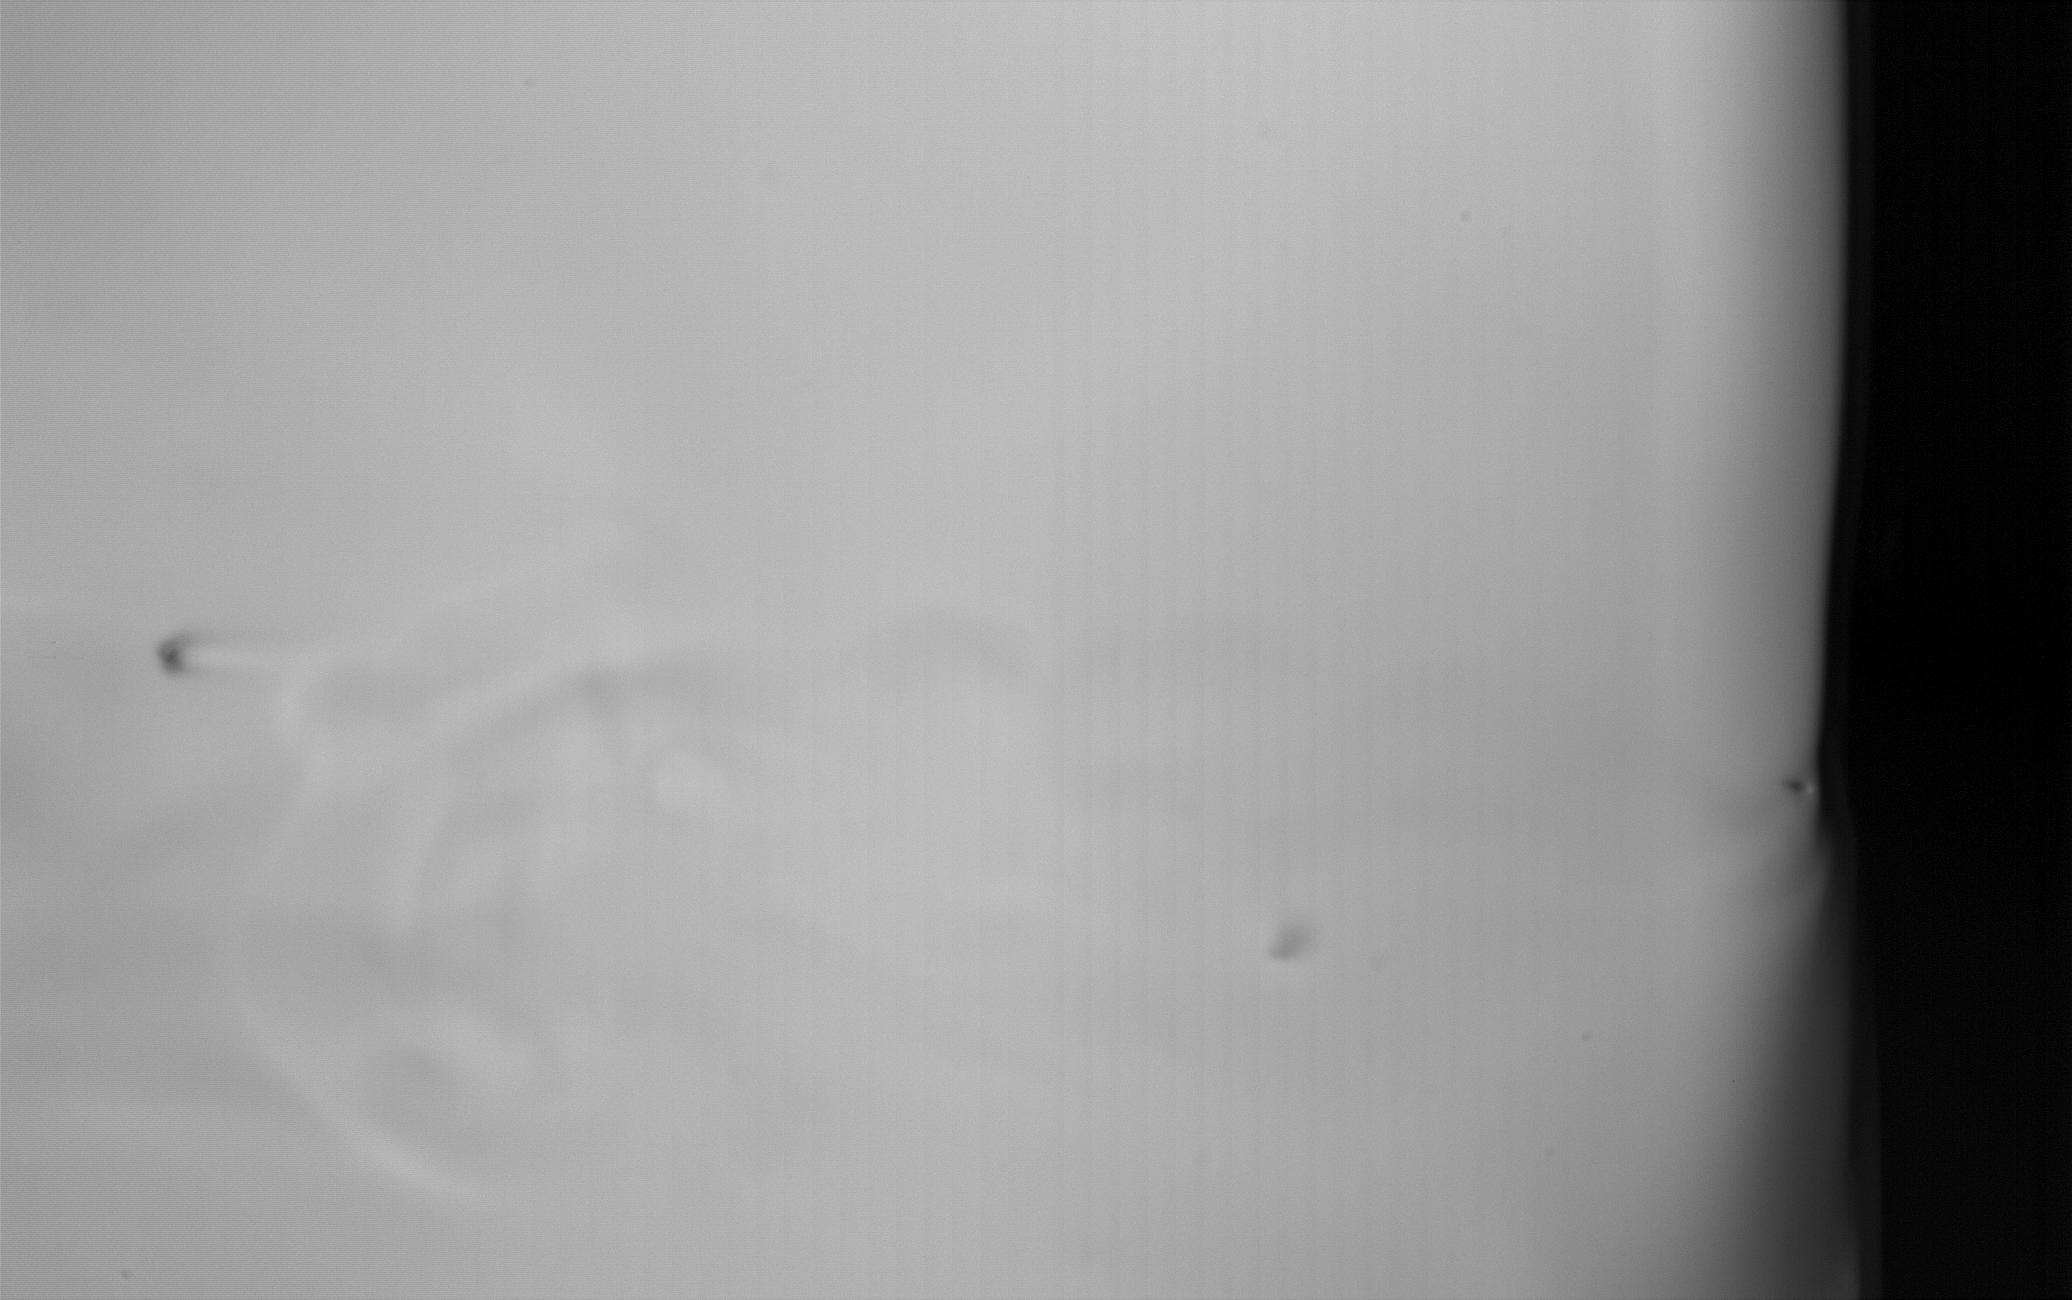Blurry: (154, 622, 205, 681), (1261, 933, 1302, 981)
